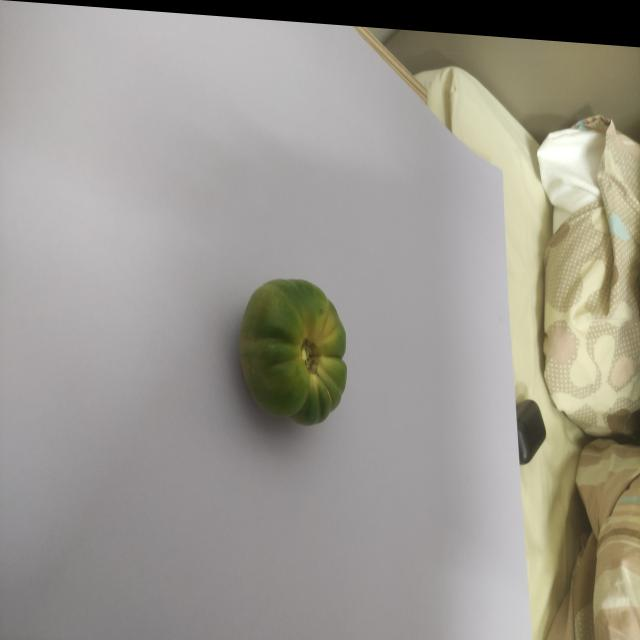yesil: (221, 245, 353, 430)
